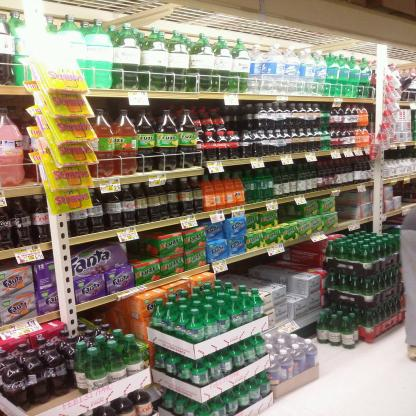empty_space: (340, 213, 360, 229)
